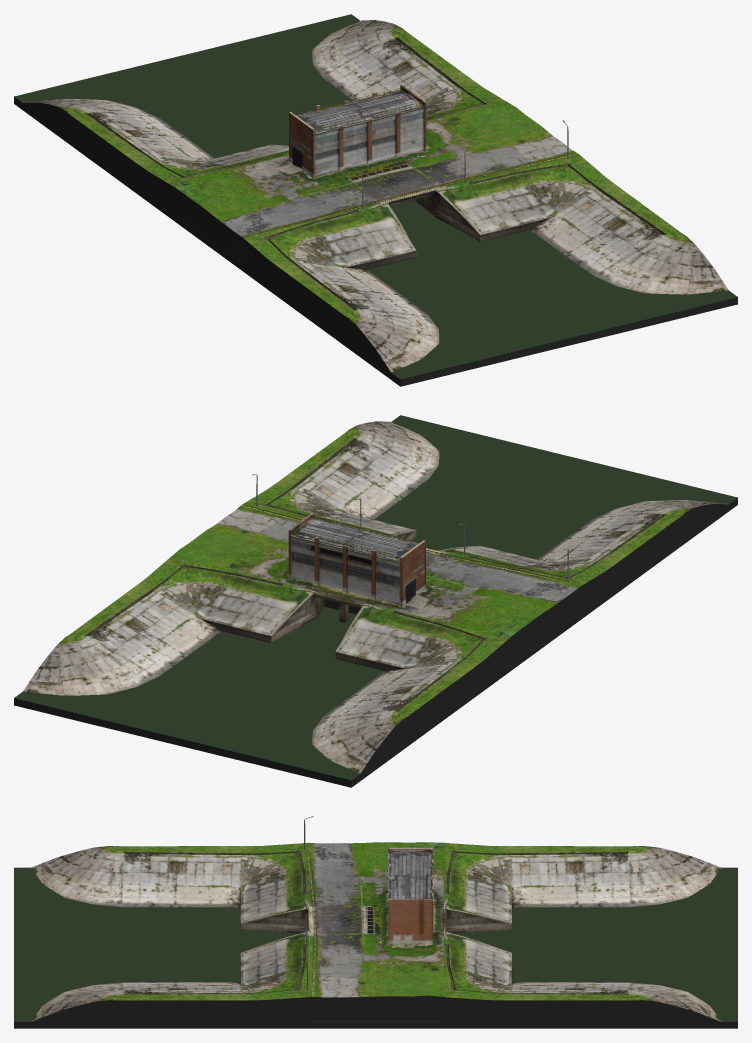
Rendered from water.glb.
3 renders of one model, top to bottom at view 1: azimuth 30°, elevation 25°; view 2: azimuth 150°, elevation 25°; view 3: azimuth 270°, elevation 25°, orthographic. The views are drawn at different scales.
Visible parts, largest first — view 1: Plane, ground., Plane.2, house; view 2: Plane, ground., Plane.2, house; view 3: Plane, ground., Plane.2, house.
Part boxes in pixels (x1=…): Plane: x1=23, y1=20, x2=728, y2=372; ground.: x1=14, y1=14, x2=737, y2=386; Plane.2: x1=170, y1=102, x2=580, y2=263; house: x1=289, y1=84, x2=426, y2=178; Plane: x1=23, y1=421, x2=728, y2=773; ground.: x1=14, y1=415, x2=737, y2=787; Plane.2: x1=171, y1=504, x2=580, y2=664; house: x1=288, y1=512, x2=425, y2=606; Plane: x1=31, y1=842, x2=721, y2=1021; ground.: x1=14, y1=867, x2=737, y2=1028; Plane.2: x1=308, y1=842, x2=446, y2=1021; house: x1=388, y1=847, x2=433, y2=945.
Size of the model in its own units: 82.67 by 20.42 by 164.
1 material, 1 textured.
